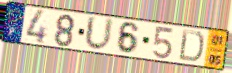4: (25, 8, 49, 45)
5: (151, 24, 176, 60)
6: (115, 21, 143, 56)
8: (53, 13, 76, 48)
D: (177, 28, 206, 64)
U: (83, 14, 115, 53)
